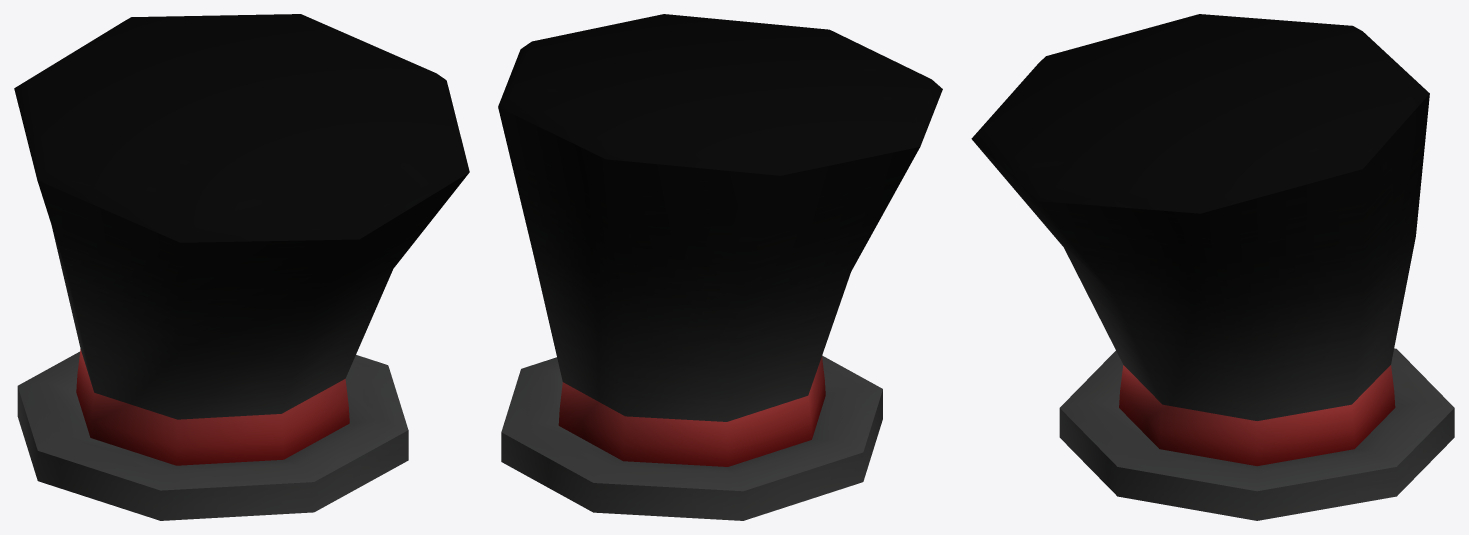
File: Tophat_Prop.fbx
The picture shows the model from 3 angles, left to right: view 1: azimuth 30°, elevation 25°; view 2: azimuth 150°, elevation 25°; view 3: azimuth 270°, elevation 25°; orthographic projection. The views are drawn at different scales.
Visible parts, largest first — view 1: Tophat_Prop; view 2: Tophat_Prop; view 3: Tophat_Prop.
Boxes of the visible parts, box(x1,y1,x2,y2) form: Tophat_Prop: box(14, 14, 469, 520); Tophat_Prop: box(498, 14, 942, 520); Tophat_Prop: box(971, 14, 1454, 520).
Size of the model in its own units: 33.27 by 28.48 by 34.85.
